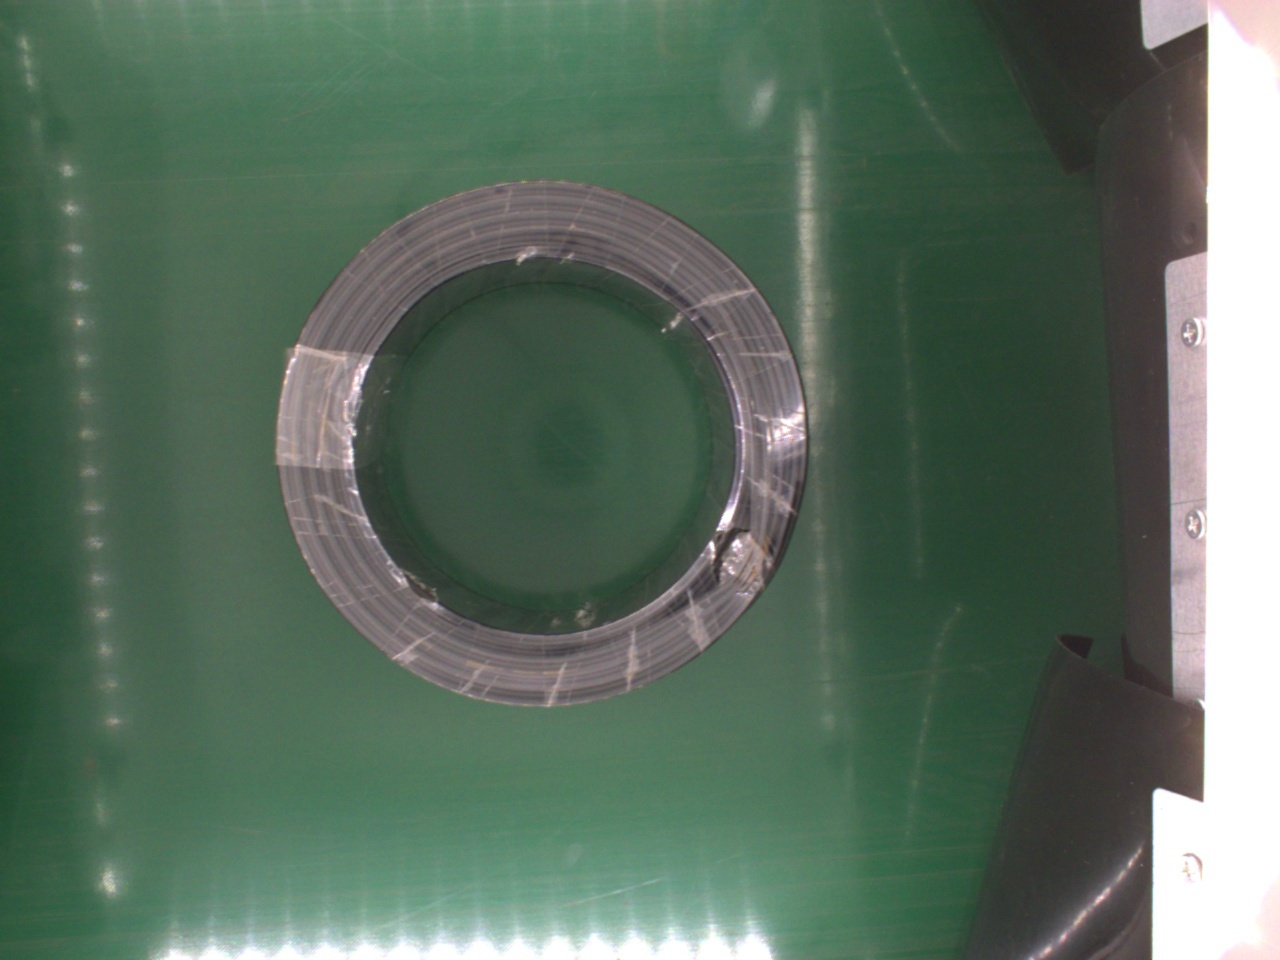black: (279, 179, 808, 707)
